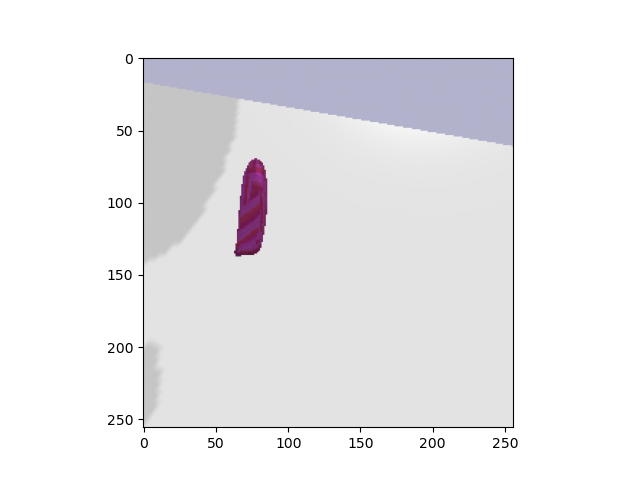v249b387_105: (228, 156, 275, 261)
